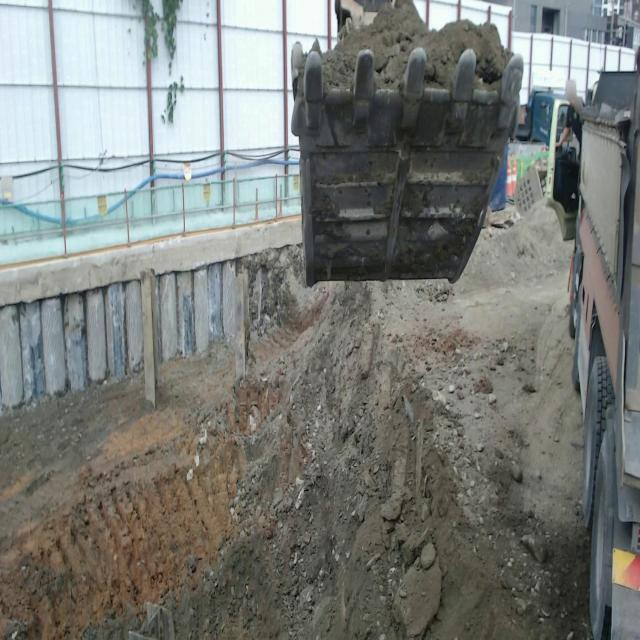cement: (0, 217, 301, 305)
red-sand: (0, 206, 589, 639), (323, 0, 510, 89)
